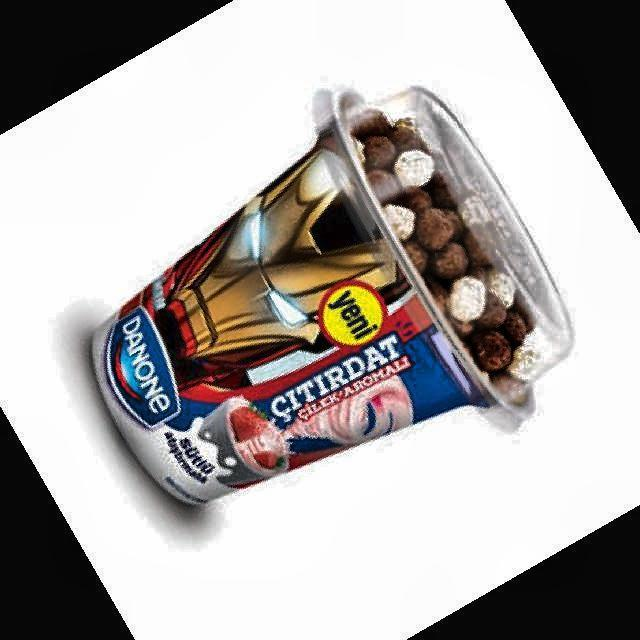plastic: (95, 88, 571, 504)
